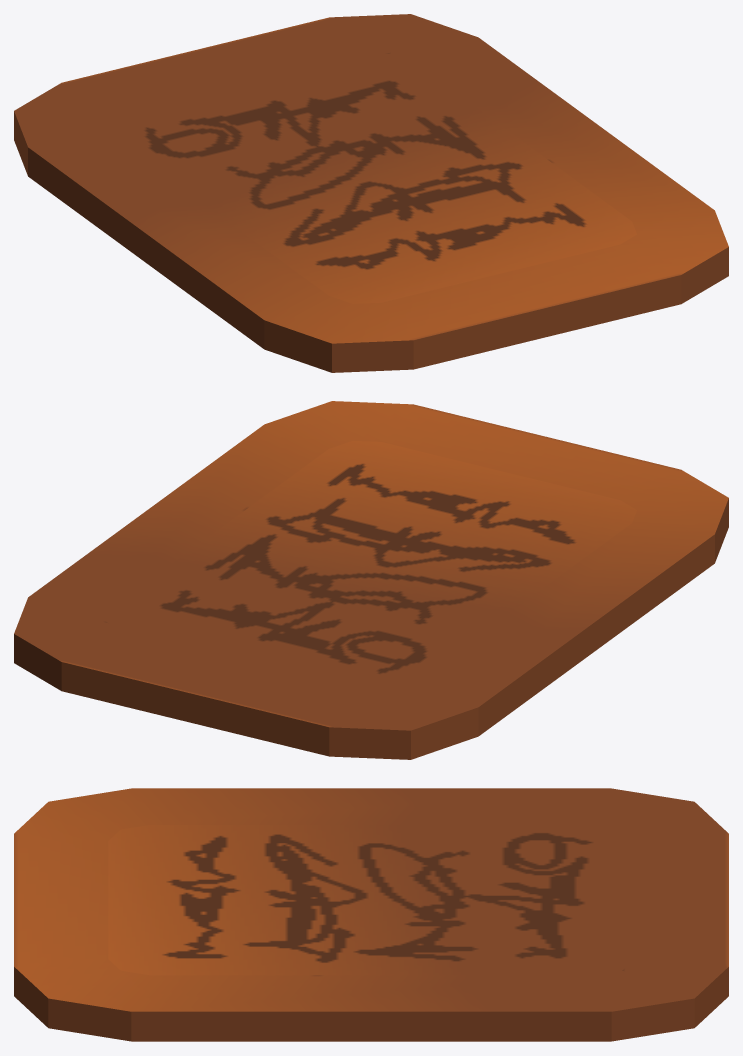
File: HCClaytabletwritten.fbx
The picture shows the model from 3 angles, top to bottom: view 1: azimuth 30°, elevation 25°; view 2: azimuth 150°, elevation 25°; view 3: azimuth 270°, elevation 25°; orthographic projection.
Visible parts, largest first — view 1: Cube.021; view 2: Cube.021; view 3: Cube.021.
Part boxes in pixels (x1,y1,x2,y2): Cube.021: (14, 14, 728, 372); Cube.021: (14, 401, 728, 759); Cube.021: (14, 788, 728, 1041).
Bounding box in the file's own units: 0.1575 × 0.00979 × 0.2131.
